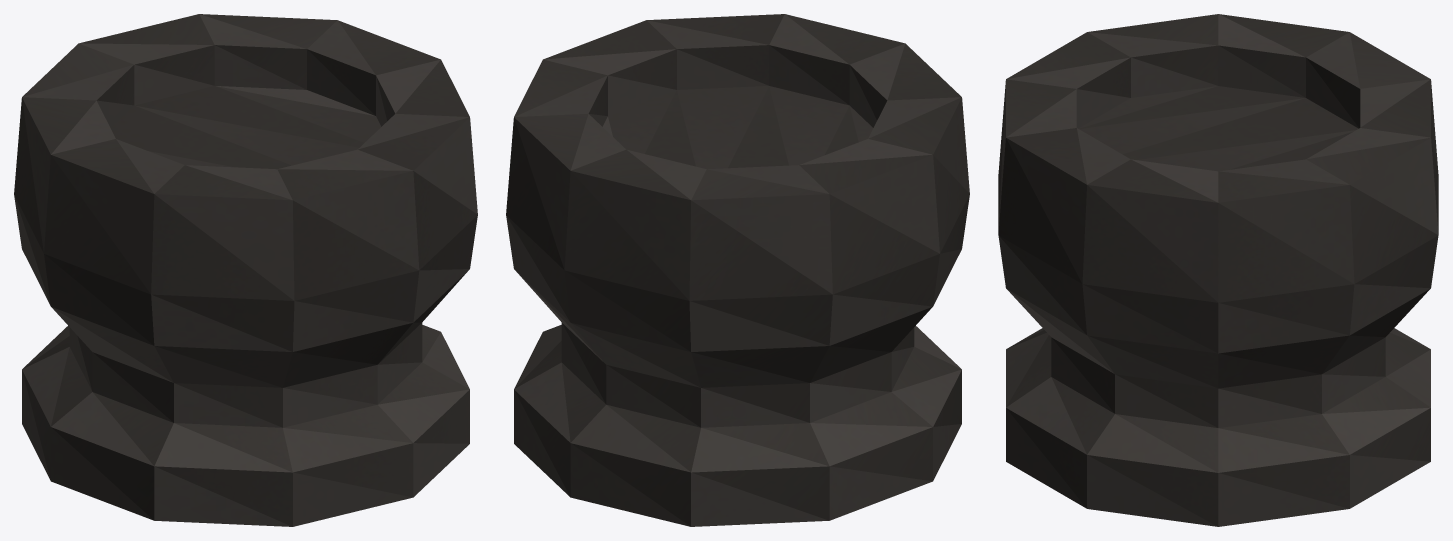
File: Fire_Jar.fbx
3 views of the same model, side by side, from view 1: azimuth 30°, elevation 25°; view 2: azimuth 150°, elevation 25°; view 3: azimuth 270°, elevation 25° (orthographic).
Parts seen in each view (by area): view 1: pCylinder448; view 2: pCylinder448; view 3: pCylinder448.
Boxes of the visible parts, x1,y1,x2,y2 form: pCylinder448: (14, 14, 477, 526); pCylinder448: (506, 14, 969, 526); pCylinder448: (998, 14, 1438, 526).
Bounding box in the file's own units: 104 × 80 × 98.46.
1 material, 1 textured.
